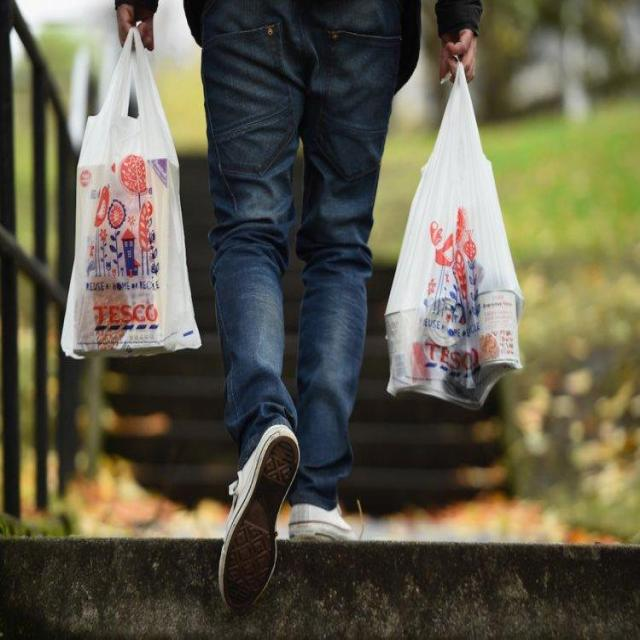plastic_bag: (61, 21, 213, 378), (383, 62, 533, 414)
